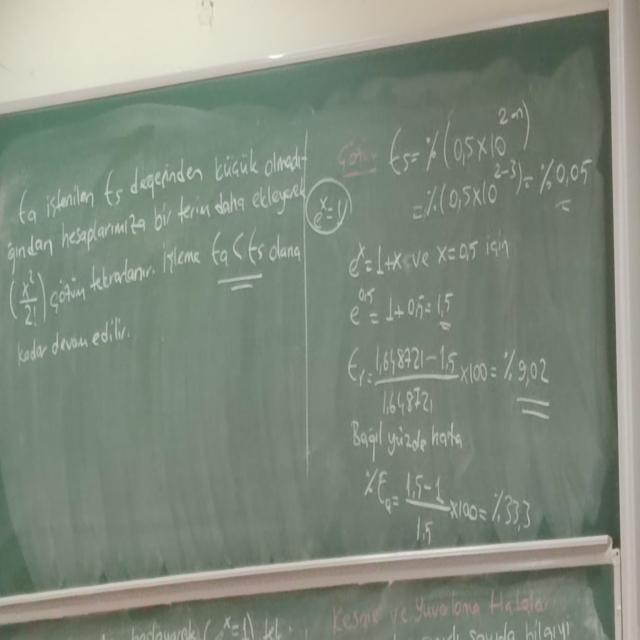math: (337, 231, 559, 418), (386, 97, 592, 228), (352, 453, 540, 545), (309, 179, 356, 236)
text: (6, 136, 303, 367), (346, 416, 468, 456)
